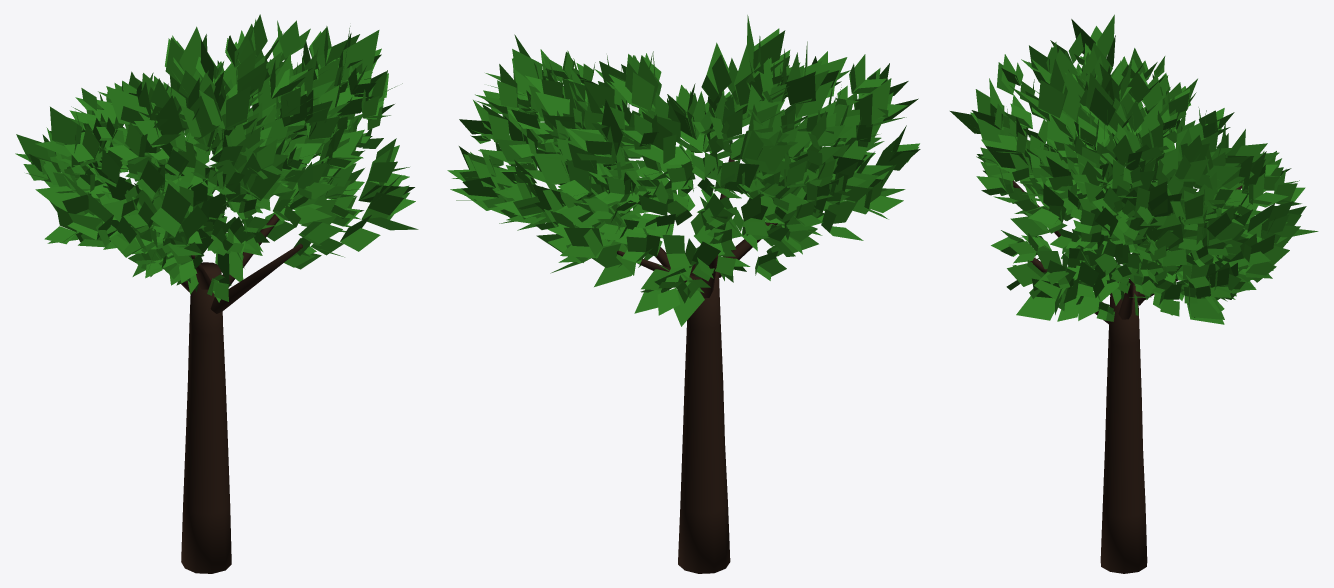
The model's file is Tree_10_C_LOD0.obj.
3 views of the same model, side by side, from view 1: azimuth 30°, elevation 25°; view 2: azimuth 150°, elevation 25°; view 3: azimuth 270°, elevation 25° (orthographic). The views are drawn at different scales.
Parts seen in each view (by area): view 1: Leaves, Trunk; view 2: Leaves, Trunk; view 3: Leaves, Trunk.
Part boxes in pixels (bbox=[...]): Leaves: bbox=[15, 14, 418, 302]; Trunk: bbox=[181, 207, 302, 573]; Leaves: bbox=[447, 15, 920, 326]; Trunk: bbox=[617, 157, 777, 573]; Leaves: bbox=[950, 14, 1318, 324]; Trunk: bbox=[1012, 180, 1242, 573].
Bounding box in the file's own units: 8 × 9.92 × 6.84.
